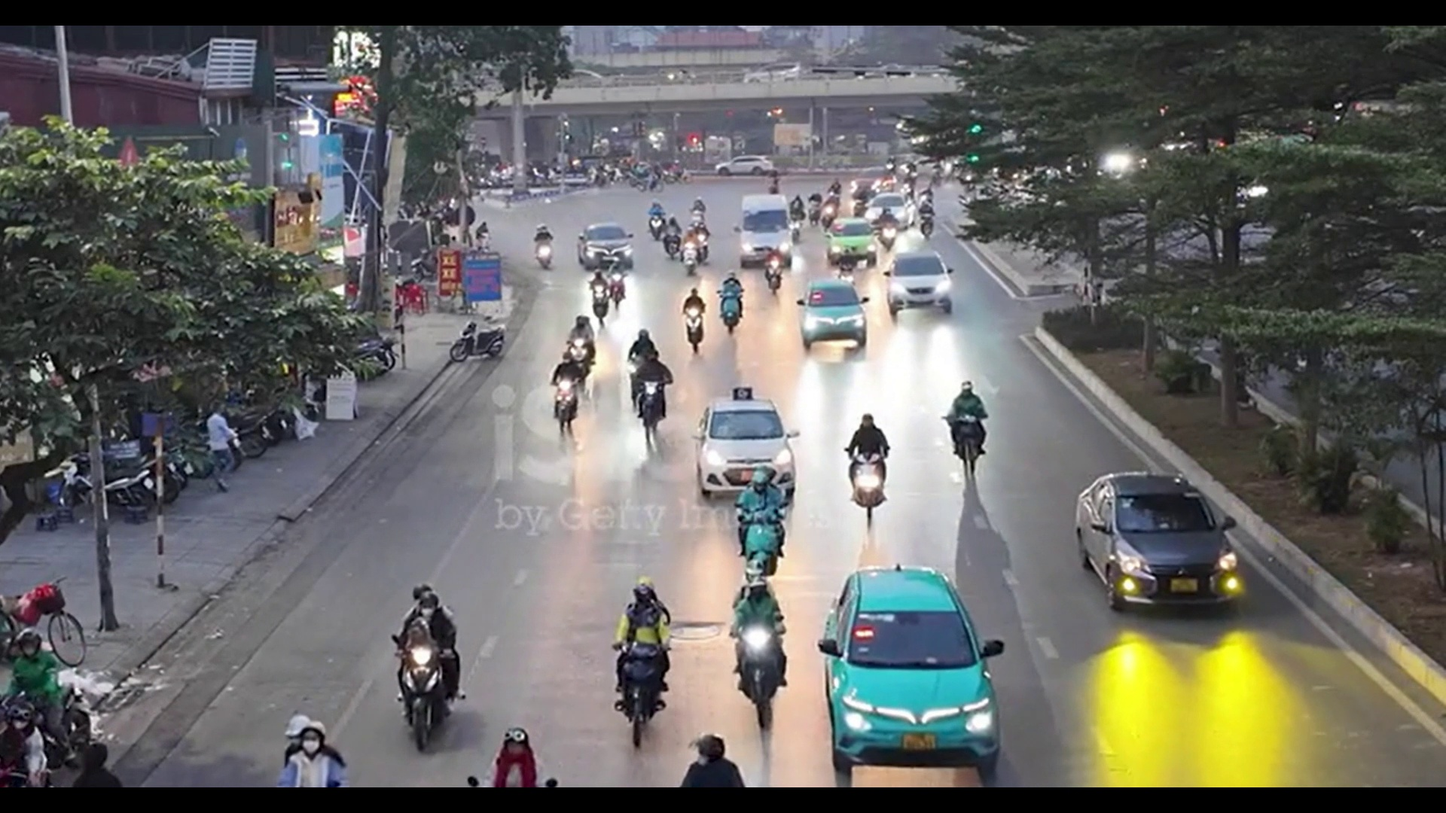car: (818, 563, 1004, 778), (1074, 470, 1246, 611), (695, 399, 796, 500), (796, 279, 868, 353), (886, 246, 954, 316), (736, 195, 795, 270), (577, 221, 635, 272)
motorcycle: (395, 640, 460, 752), (614, 640, 669, 752)
